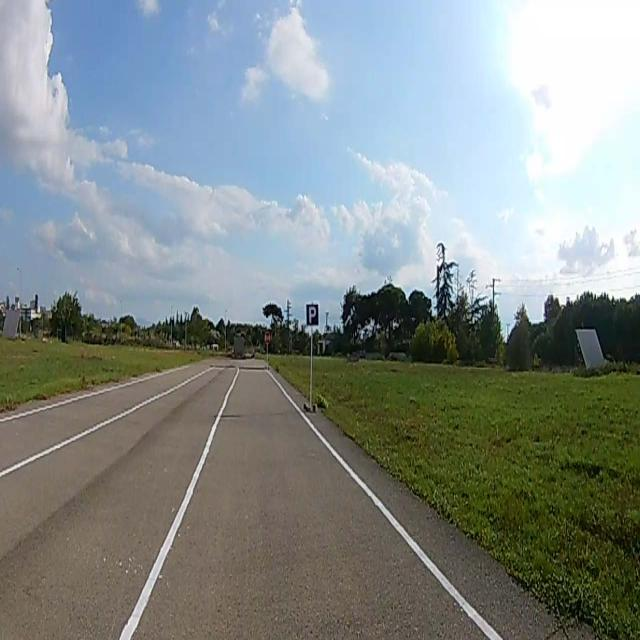park: (306, 306, 318, 325)
